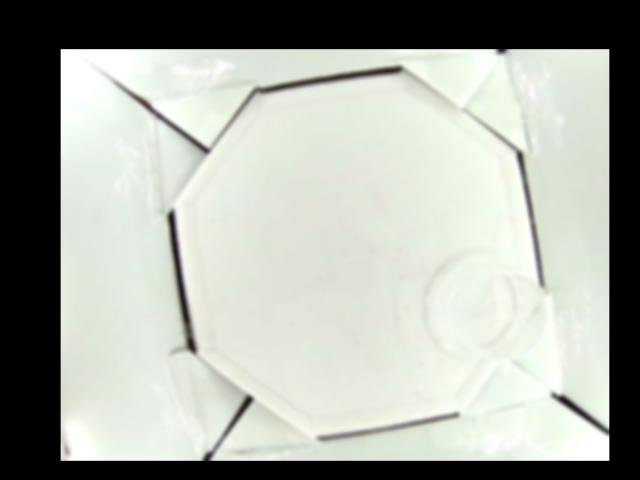Cup: (423, 250, 551, 364)
